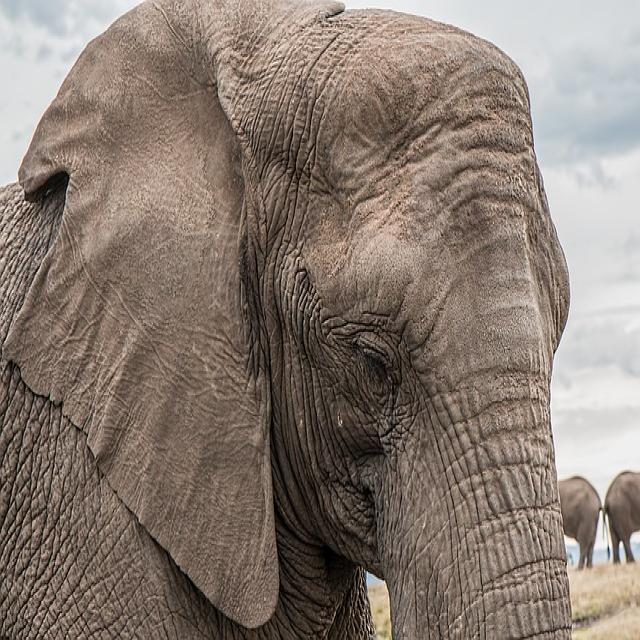elephant: (0, 4, 571, 638)
